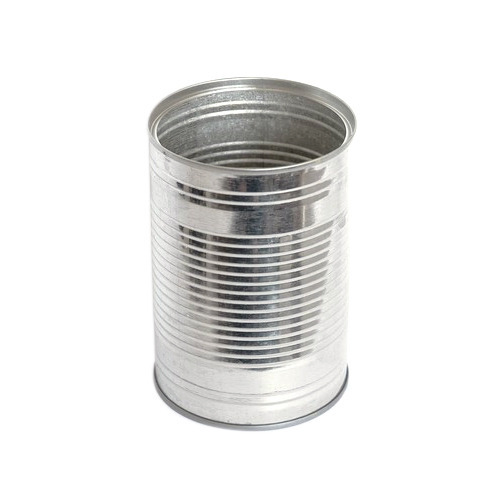metal: (145, 74, 359, 430)
